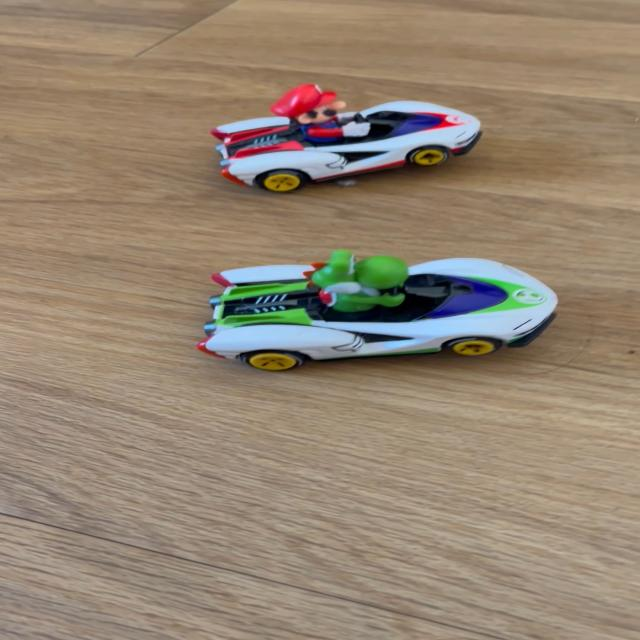mario: (190, 93, 476, 191)
yoshi: (183, 236, 580, 379)
